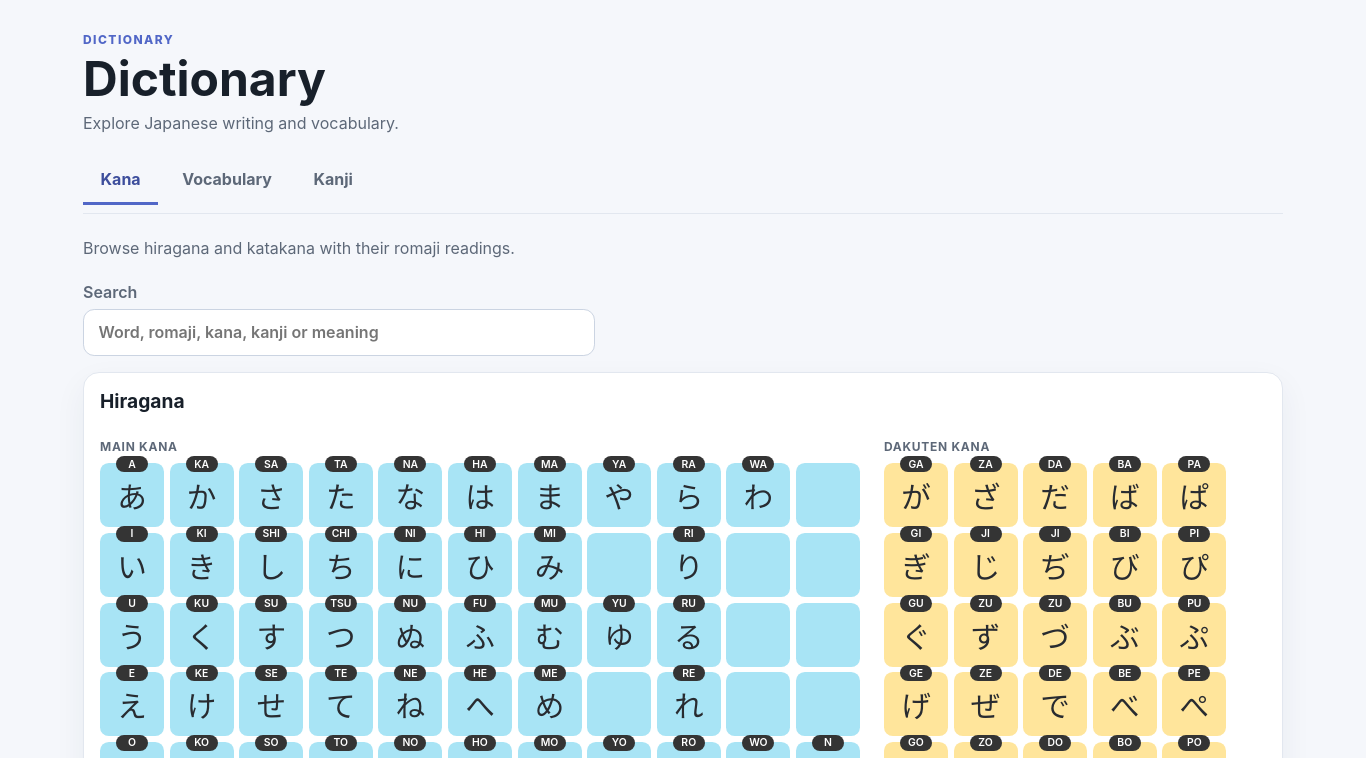
Test: DictionaryView › shows the hiragana and katakana charts in that order with romaji readings
expect the list item with class "kana-cell" shows "あ": met, box [117,479,147,515]
expect the list item with class "kana-cell" shows "a": met, box [128,458,136,471]
Type "ka" into the search field labelled "Search". click: (339, 332)
box: [83,309,595,356]
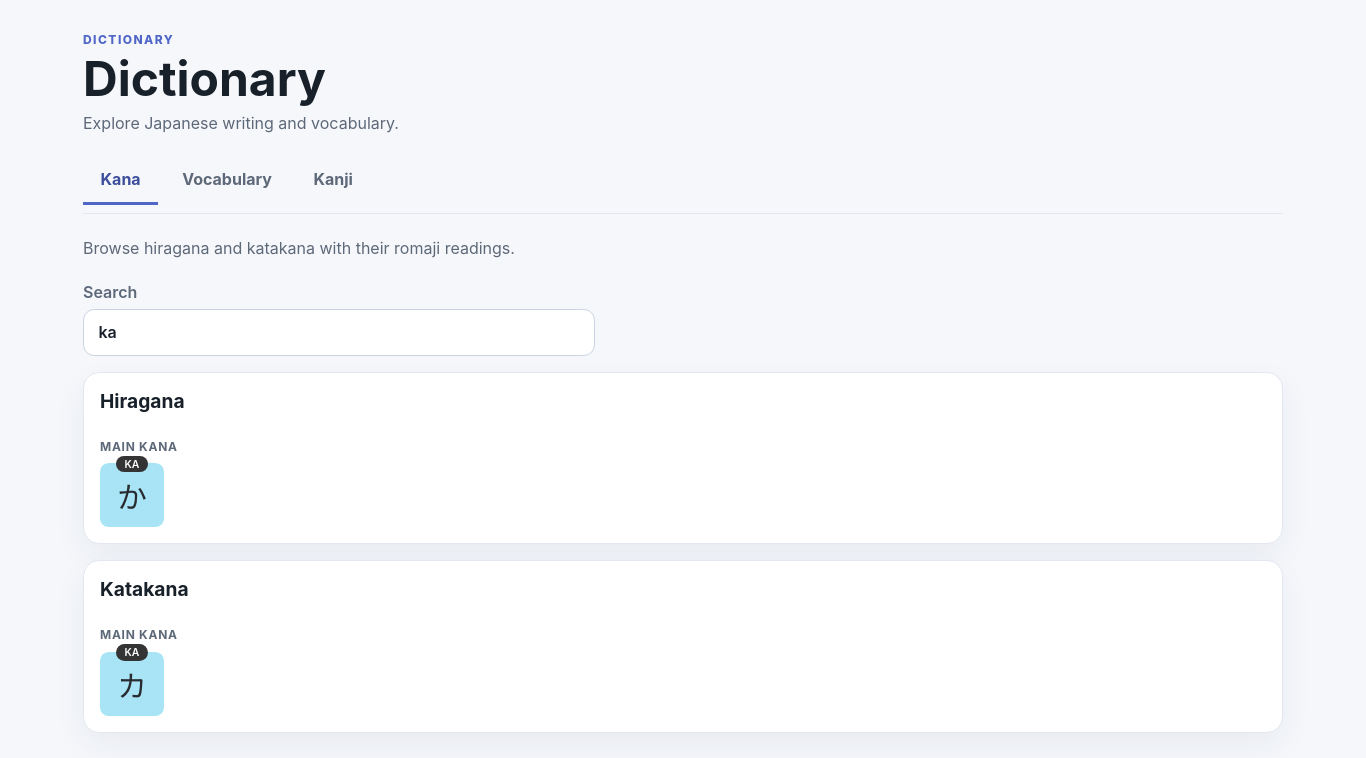
expect the elements with class "kana-glyph" read "か", "カ", in this order: met, box [117,480,147,516]; [117,669,147,704]
expect the number of list items with class "kana-cell" is 2: met, box [100,463,164,527]; [100,652,164,716]
expect the elements with class "section-heading" read "Main Kana", "Main Kana", in this order: met, box [100,439,178,454]; [100,627,178,642]
Replace the text in the search field labelled "Search" with "ba". click: (339, 332)
box: [83,309,595,356]
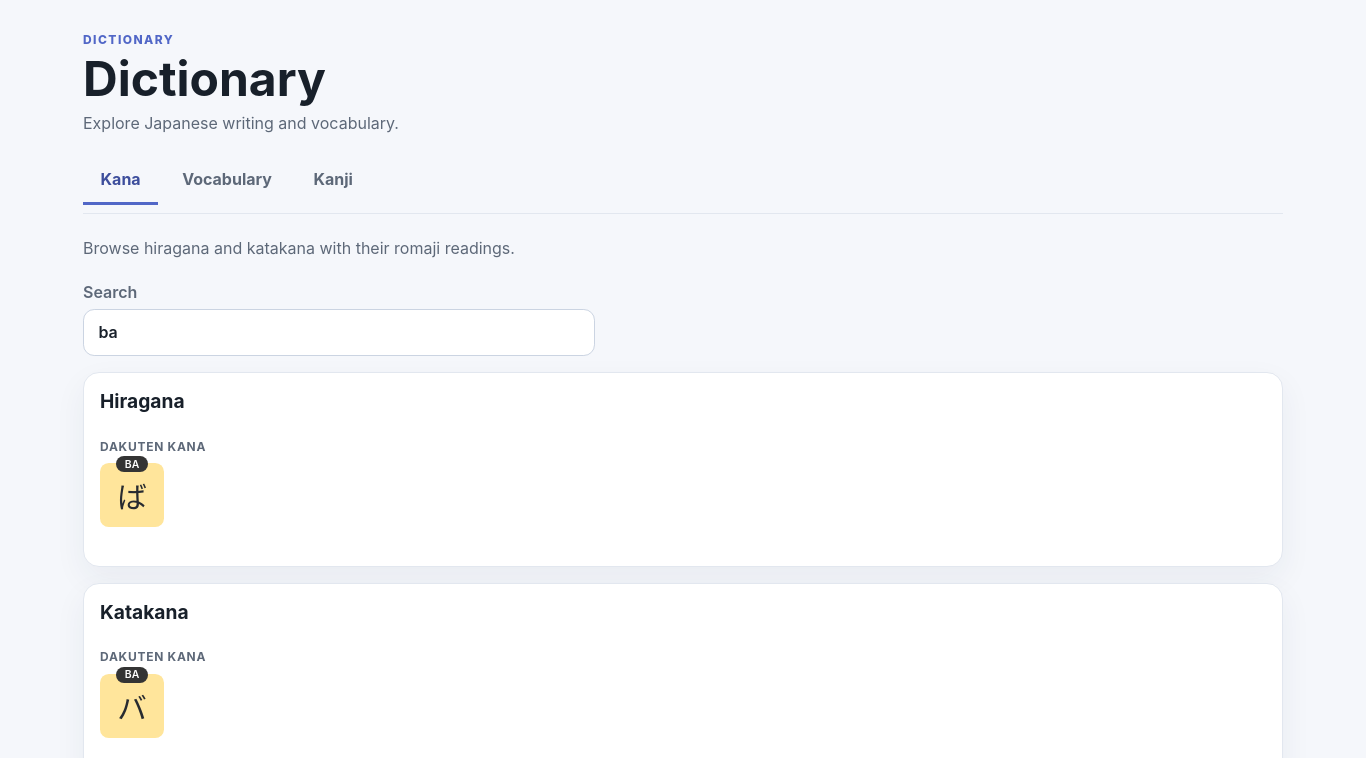
expect the number of list items with class "kana-cell" is 2: met, box [100,463,164,527]; [100,674,164,738]
expect the elements with class "kana-glyph" read "ば", "バ", in this order: met, box [117,480,147,516]; [117,691,147,726]
expect no lists with class "basic-grid" are shown: met
Replace the text in the search field labelled "Search" with "no match". click: (339, 332)
box: [83,309,595,356]
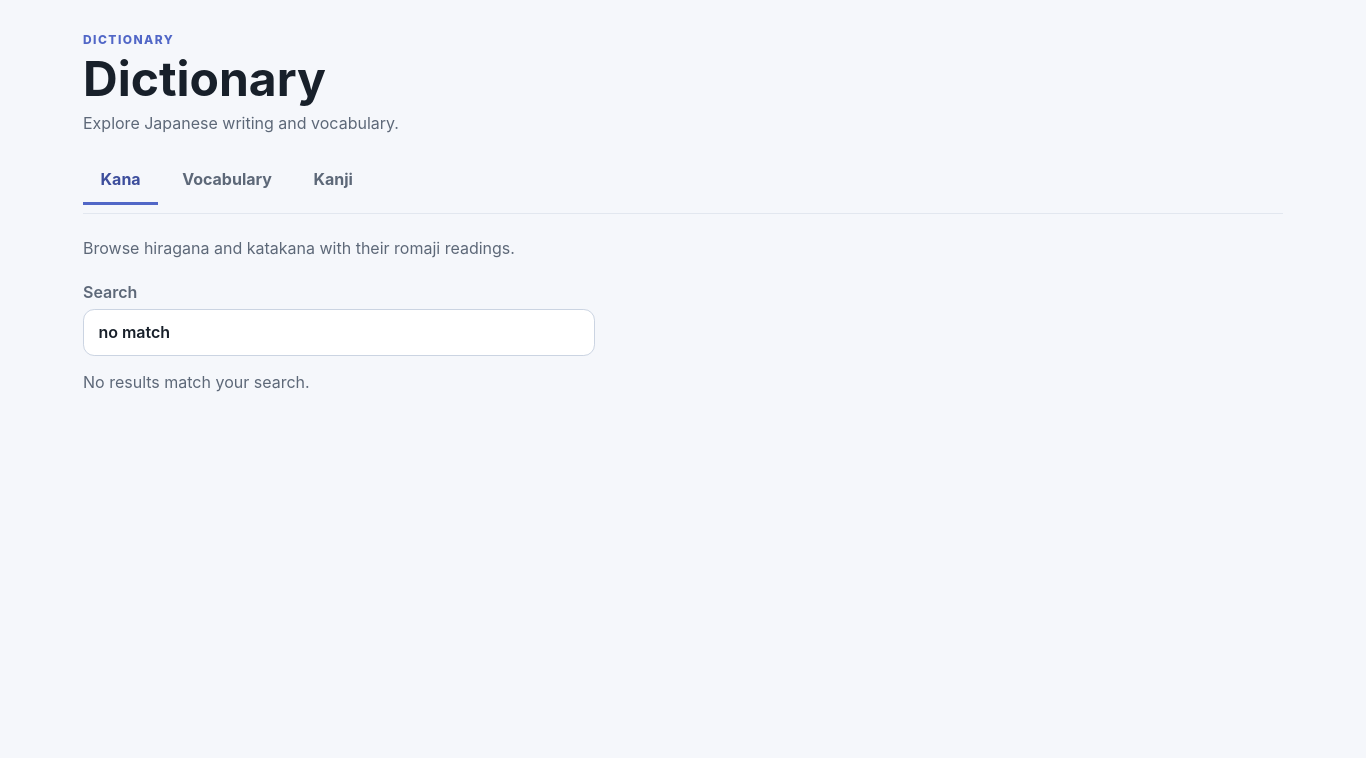
expect the text with class "empty-state" reads "No results match your search.": met, box [83,372,310,392]
